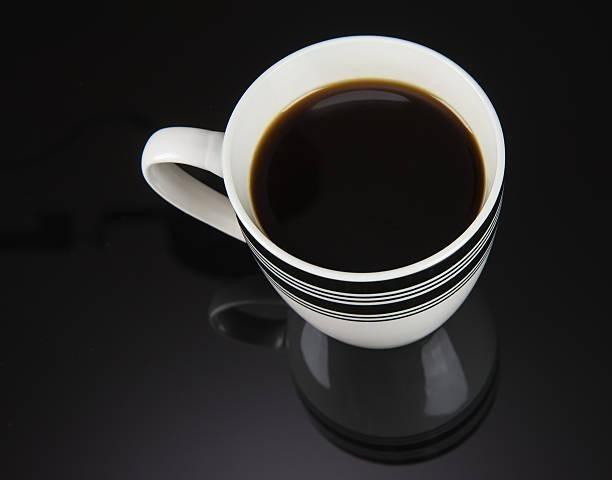cup-handle: (141, 33, 508, 352)
